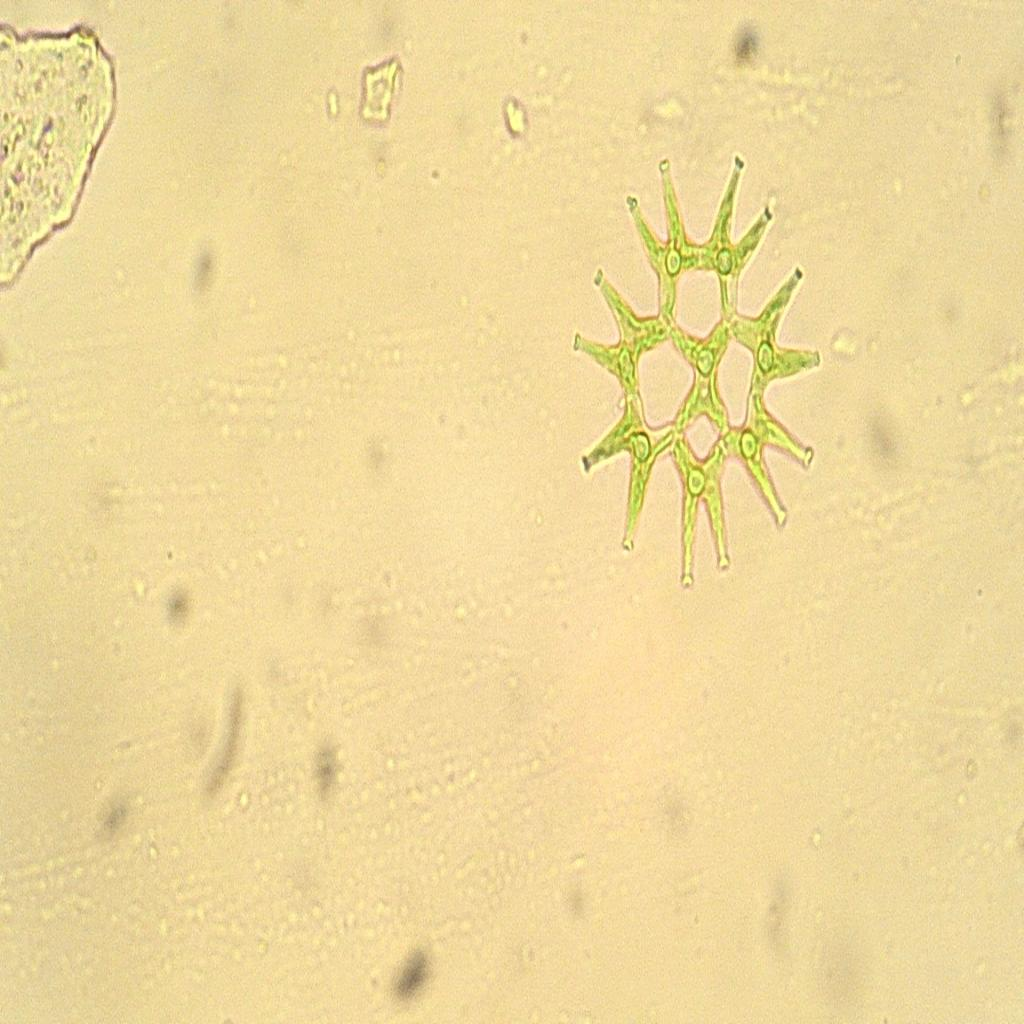Pediastrum_CTH: (567, 134, 832, 604)
